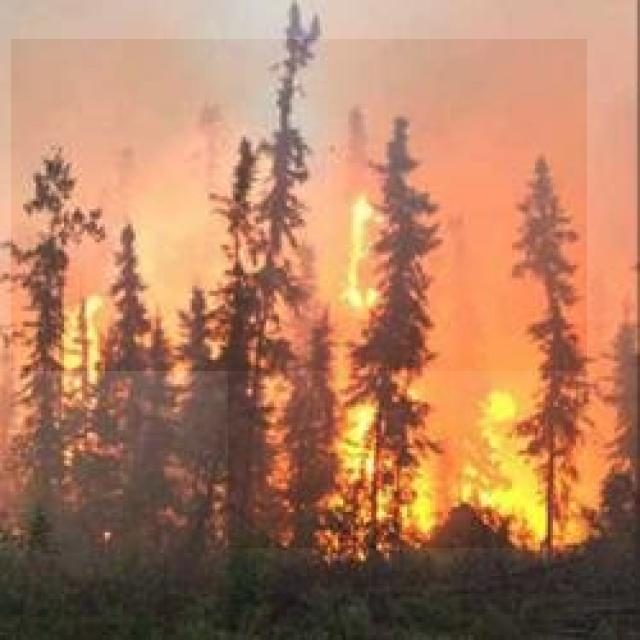Fire: (228, 328, 578, 548)
Smoke: (11, 39, 587, 372)
